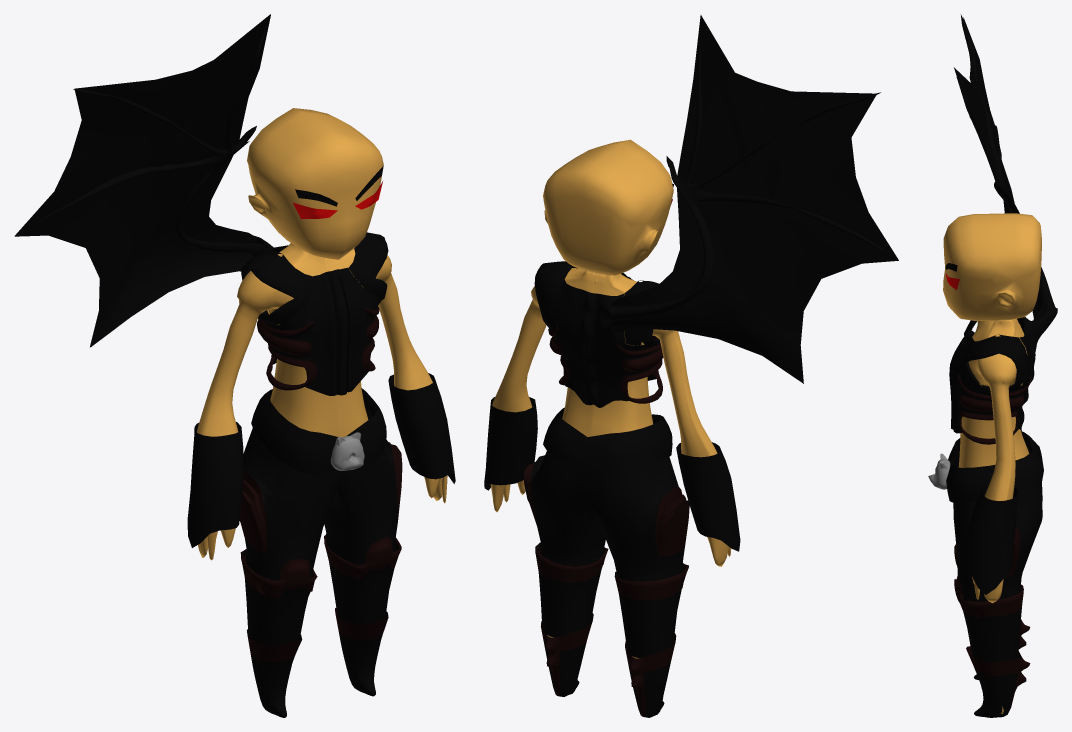
Rendered from Fighter.FBX.
3 renders of one model, left to right at view 1: azimuth 30°, elevation 25°; view 2: azimuth 150°, elevation 25°; view 3: azimuth 270°, elevation 25°, orthographic. The views are drawn at different scales.
Visible parts, largest first — view 1: ChestArmour, LegArmour, Head, Body, Gloves, Boots, Belt, Shoulders, Buckle; view 2: ChestArmour, LegArmour, Head, Body, Gloves, Belt, Boots, Shoulders; view 3: Head, ChestArmour, LegArmour, Body, Gloves, Belt, Boots, Shoulders, Buckle.
Part boxes in pixels (left/top/right/bottom): ChestArmour: left=14, top=14, right=381, bottom=395; LegArmour: left=239, top=406, right=402, bottom=645; Head: left=247, top=108, right=383, bottom=259; Body: left=197, top=243, right=447, bottom=560; Gloves: left=187, top=373, right=455, bottom=547; Boots: left=247, top=608, right=388, bottom=717; Belt: left=251, top=388, right=386, bottom=475; Shoulders: left=241, top=232, right=388, bottom=325; Buckle: left=330, top=432, right=364, bottom=470; ChestArmour: left=544, top=15, right=898, bottom=407; LegArmour: left=524, top=451, right=689, bottom=658; Head: left=543, top=139, right=673, bottom=275; Body: left=490, top=268, right=731, bottom=658; Gloves: left=484, top=397, right=740, bottom=551; Belt: left=543, top=407, right=672, bottom=470; Boots: left=540, top=613, right=676, bottom=717; Shoulders: left=534, top=261, right=659, bottom=345; Head: left=943, top=213, right=1041, bottom=321; ChestArmour: left=949, top=14, right=1057, bottom=444; LegArmour: left=953, top=445, right=1042, bottom=661; Body: left=958, top=318, right=1029, bottom=714; Gloves: left=963, top=486, right=1017, bottom=594; Belt: left=946, top=431, right=1043, bottom=502; Boots: left=966, top=619, right=1030, bottom=717; Shoulders: left=964, top=317, right=1028, bottom=392; Buckle: left=928, top=453, right=950, bottom=489.
Size of the model in its own units: 56.12 by 88.82 by 17.36.
